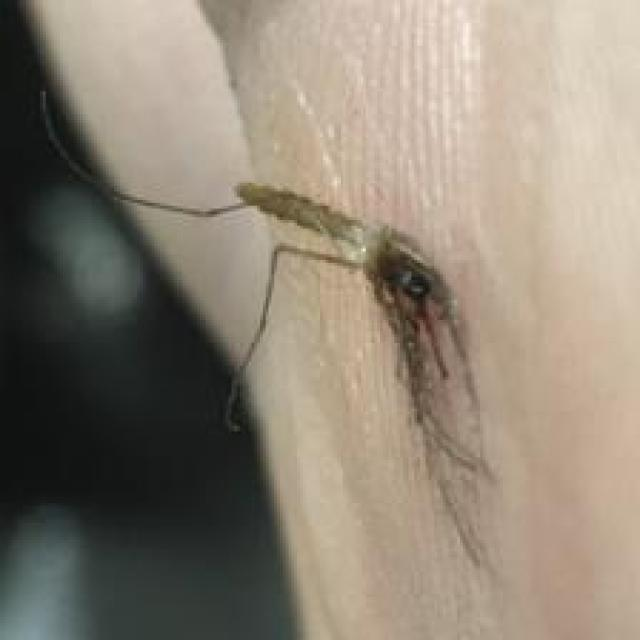Culex: (34, 86, 509, 583)
